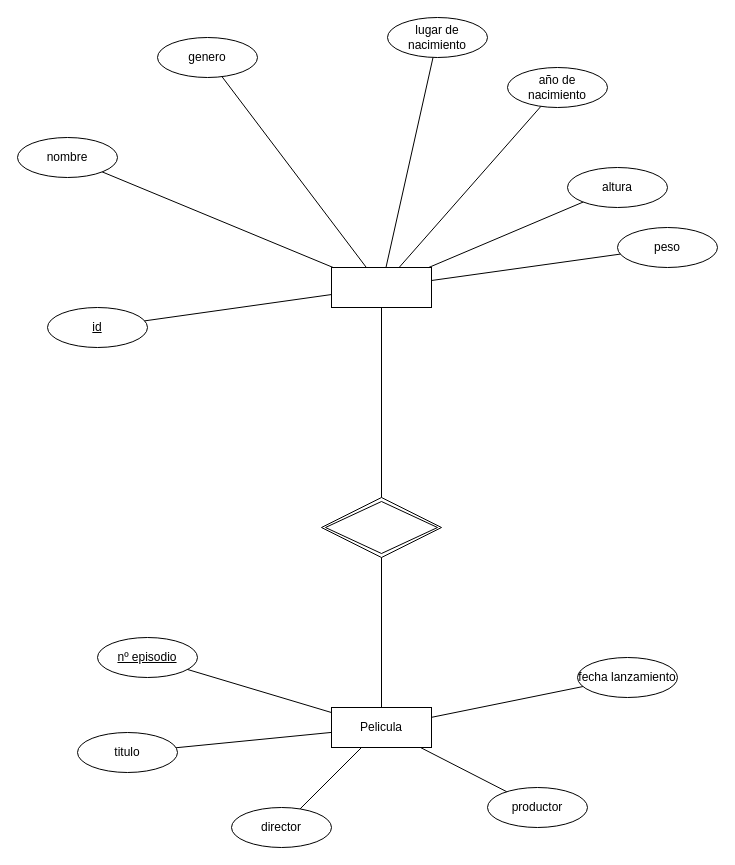
This 735x865 diagram has some shape labels left out. Each missing label, with the centre of its shape:
"aparece en" belongs at [381,527].
"Personaje" belongs at [381,287].
